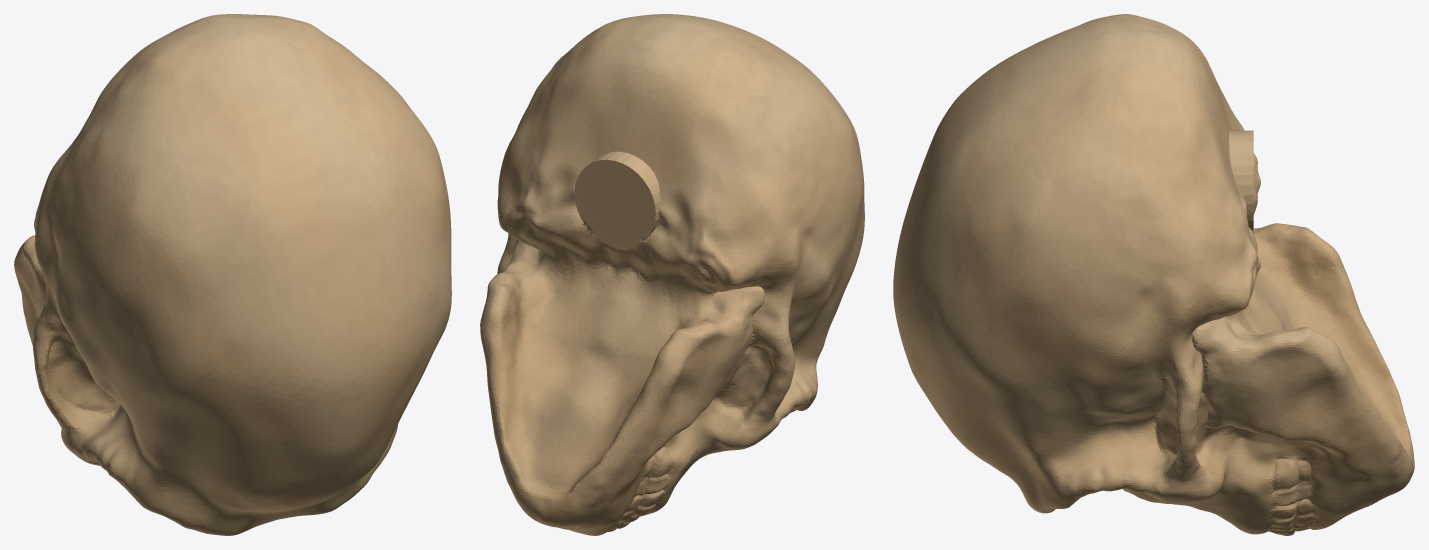
Rendered from sapiens-archaic.glb.
The picture shows the model from 3 angles, left to right: view 1: azimuth 30°, elevation 25°; view 2: azimuth 150°, elevation 25°; view 3: azimuth 270°, elevation 25°; orthographic projection. The views are drawn at different scales.
Size of the model in its own units: 35.5 by 50 by 47.63.
